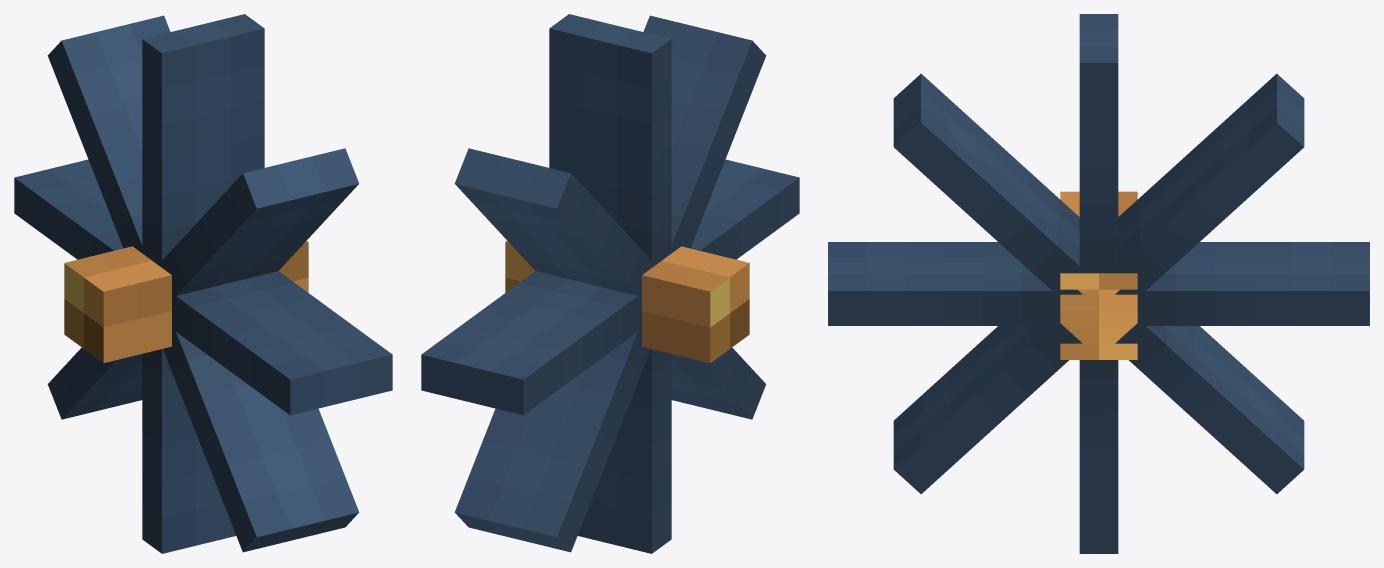
File: diesel_boat_left_paddle.obj
3 renders of one model, left to right at view 1: azimuth 30°, elevation 25°; view 2: azimuth 150°, elevation 25°; view 3: azimuth 270°, elevation 25°, orthographic.
Visible parts, largest first — view 1: Left_Paddle; view 2: Left_Paddle; view 3: Left_Paddle.
Boxes of the visible parts, <box> form: Left_Paddle: <box>14,14,392,553</box>; Left_Paddle: <box>421,14,799,553</box>; Left_Paddle: <box>828,14,1369,553</box>.
Bounding box in the file's own units: 0.375 × 0.875 × 0.875.
